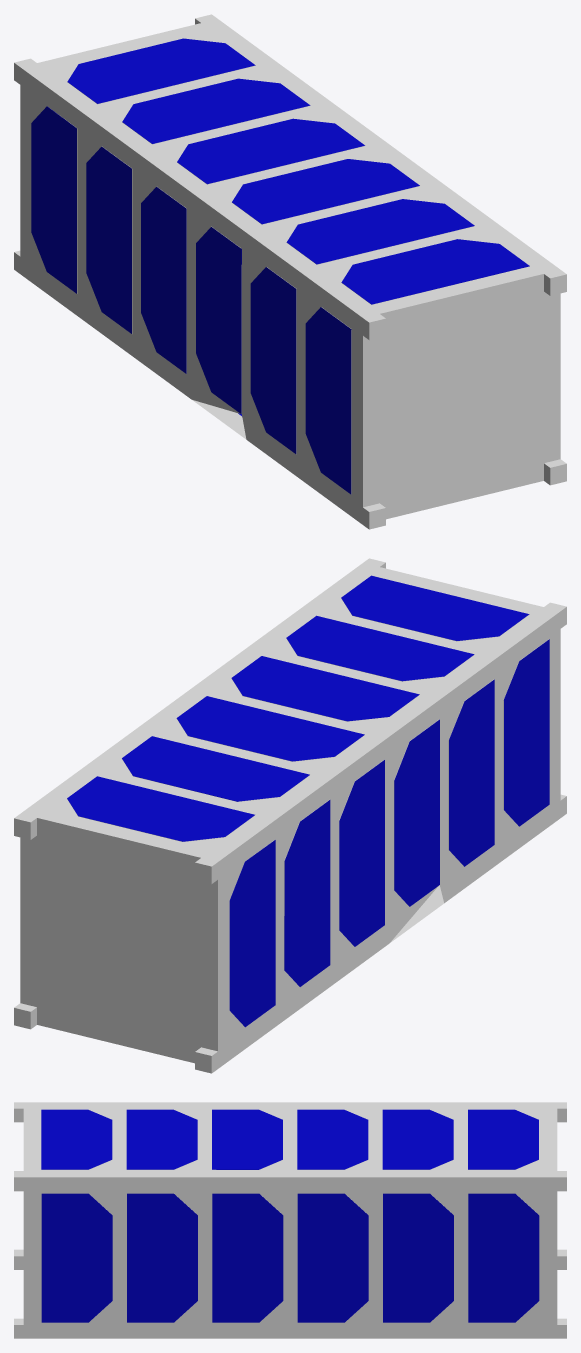
File: Winsat.dae
3 views of the same model, one above another, from view 1: azimuth 30°, elevation 25°; view 2: azimuth 150°, elevation 25°; view 3: azimuth 270°, elevation 25° (orthographic). The views are drawn at different scales.
Visible parts, largest first — view 1: WinSat_-_camera_slot_included_-_solar_cells_on_nadir_face, SolarCells; view 2: WinSat_-_camera_slot_included_-_solar_cells_on_nadir_face, SolarCells; view 3: SolarCells, WinSat_-_camera_slot_included_-_solar_cells_on_nadir_face.
Part boxes in pixels (left/top/right/bottom): WinSat_-_camera_slot_included_-_solar_cells_on_nadir_face: left=14, top=14, right=566, bottom=529; SolarCells: left=31, top=38, right=529, bottom=494; WinSat_-_camera_slot_included_-_solar_cells_on_nadir_face: left=14, top=558, right=566, bottom=1073; SolarCells: left=67, top=575, right=549, bottom=1027; SolarCells: left=41, top=1109, right=539, bottom=1322; WinSat_-_camera_slot_included_-_solar_cells_on_nadir_face: left=14, top=1102, right=566, bottom=1338.
Bounding box in the file's own units: 0.1003 × 0.311 × 0.1003.
